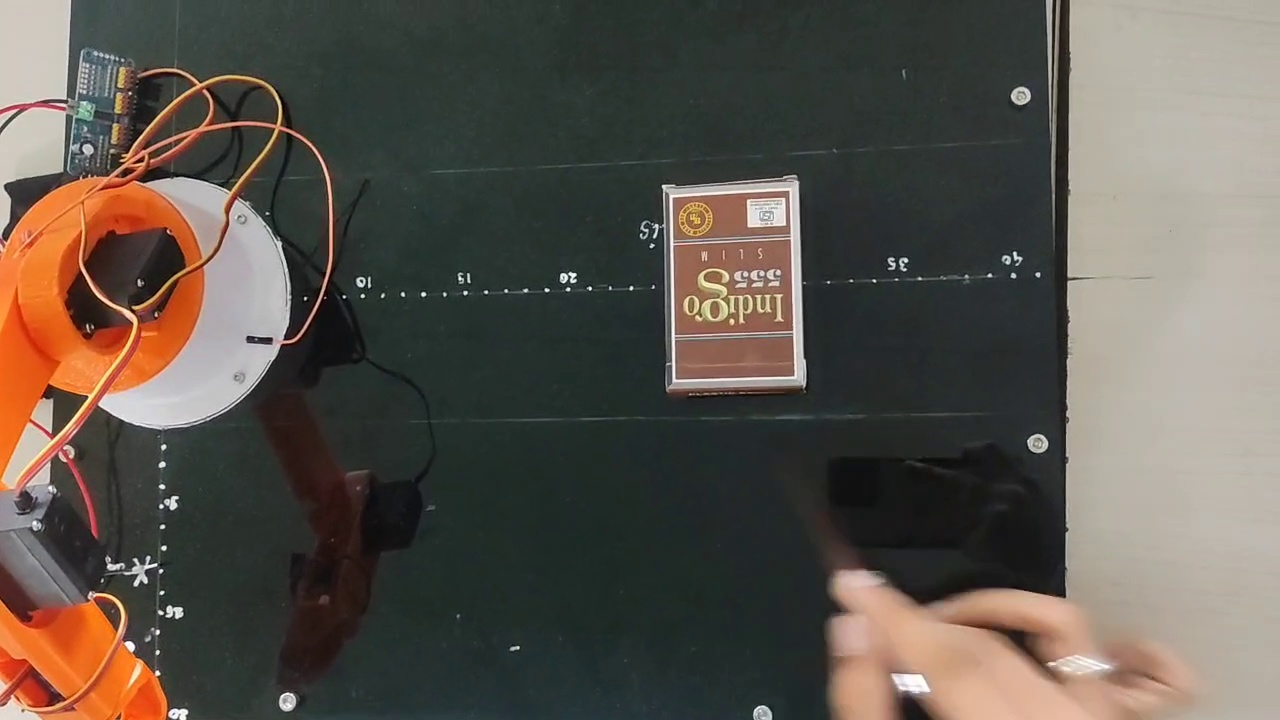BEX: (664, 183, 797, 385)
